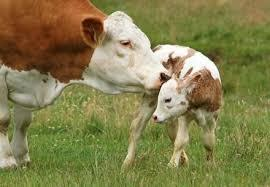cow: (0, 2, 171, 170), (122, 47, 222, 164)
